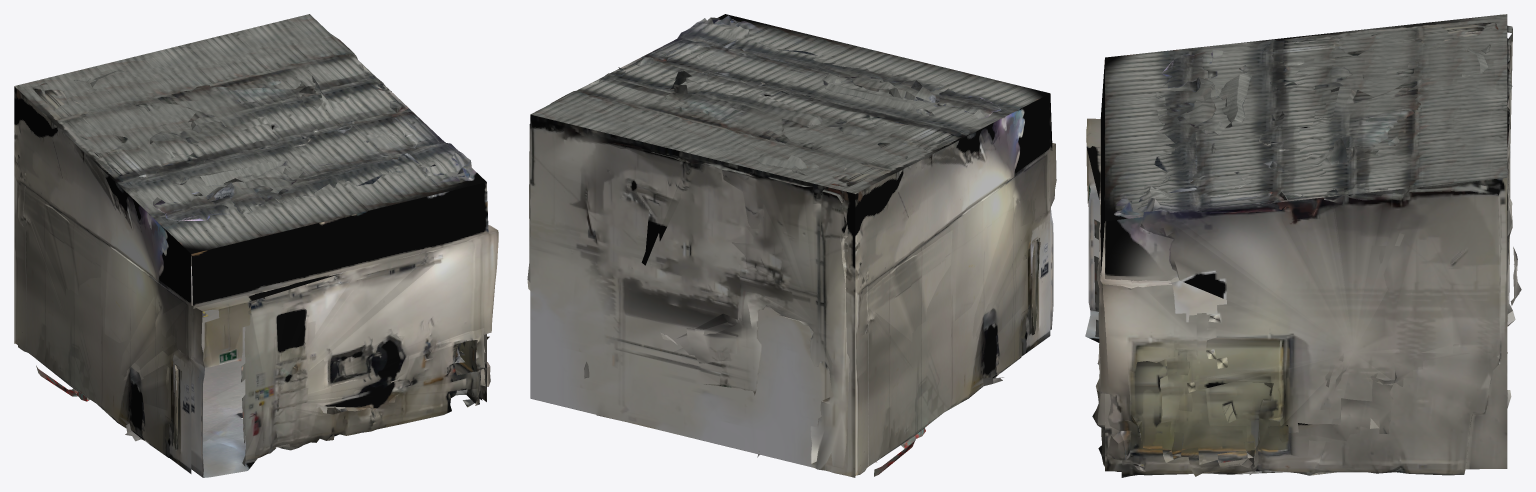
File: Photo_studio_01-IM.fbx
The picture shows the model from 3 angles, left to right: view 1: azimuth 30°, elevation 25°; view 2: azimuth 150°, elevation 25°; view 3: azimuth 270°, elevation 25°; orthographic projection. The views are drawn at different scales.
Visible parts, largest first — view 1: Photo_studio_01-IM; view 2: Photo_studio_01-IM; view 3: Photo_studio_01-IM.
Part boxes in pixels (box(x1,y1,x2,y2)): Photo_studio_01-IM: box(14, 14, 498, 477); Photo_studio_01-IM: box(527, 14, 1056, 477); Photo_studio_01-IM: box(1085, 14, 1521, 477).
Bounding box in the file's own units: 723 × 595 × 745.
Materials: 1 (1 with a texture image).
